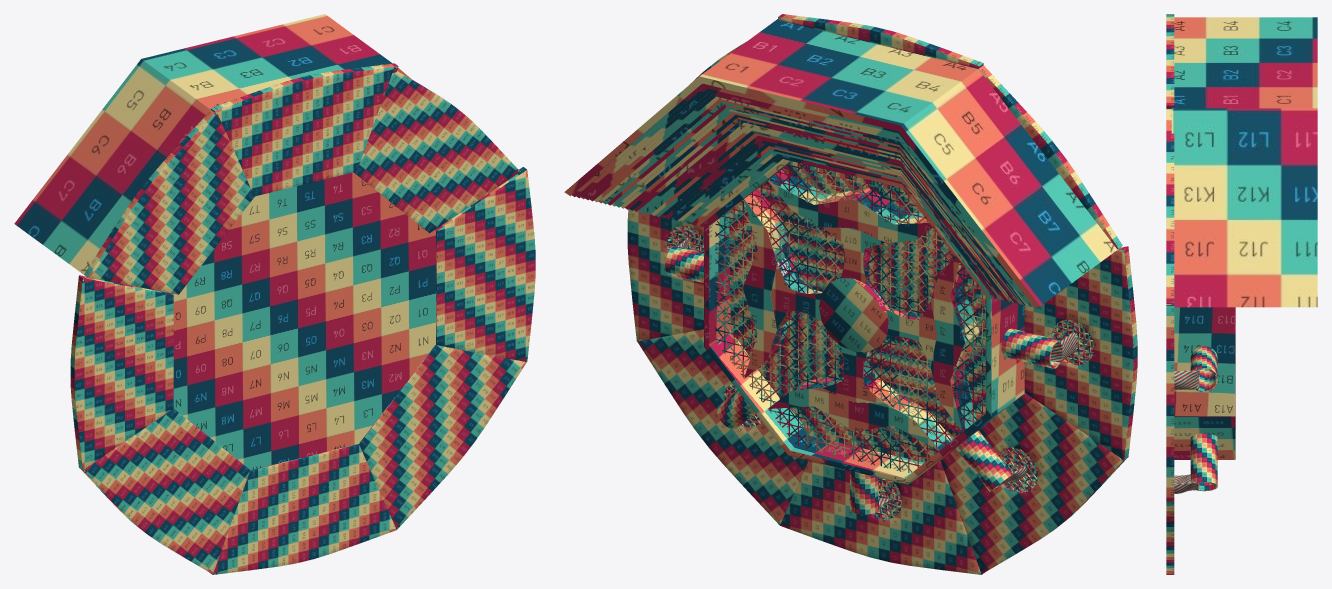
File: arene_full.FBX
The picture shows the model from 3 angles, left to right: view 1: azimuth 30°, elevation 25°; view 2: azimuth 150°, elevation 25°; view 3: azimuth 270°, elevation 25°; orthographic projection. The views are drawn at different scales.
Parts seen in each view (by area): view 1: Arène, Gradins, Cylinder001, Cylinder021, Cylinder018, Cylinder020, Cylinder016, Cylinder017, Cylinder015, Cylinder019; view 2: Gradins, Cylinder006, Grille, Plane002, Cylinder015, Cylinder001, Arène, Cylinder016, Cylinder017, Cylinder018, Cylinder021, Cylinder020 (+8 smaller); view 3: Gradins, Arène, Cylinder018, Cylinder019, Tube004, Tube005, Cylinder020, Cylinder017, Object012, Object010.
Part boxes in pixels (left/top/right/bottom): Arène: left=171, top=172, right=435, bottom=470; Gradins: left=14, top=14, right=411, bottom=275; Cylinder001: left=70, top=275, right=173, bottom=470; Cylinder021: left=84, top=107, right=254, bottom=294; Cylinder018: left=435, top=167, right=535, bottom=361; Cylinder020: left=211, top=63, right=398, bottom=196; Cylinder016: left=209, top=444, right=396, bottom=574; Cylinder017: left=359, top=345, right=526, bottom=529; Cylinder015: left=79, top=408, right=250, bottom=574; Cylinder019: left=354, top=71, right=520, bottom=233; Gradins: left=564, top=19, right=1118, bottom=307; Cylinder006: left=742, top=170, right=979, bottom=450; Grille: left=715, top=162, right=985, bottom=472; Plane002: left=729, top=161, right=985, bottom=462; Cylinder015: left=941, top=393, right=1128, bottom=574; Cylinder001: left=1024, top=246, right=1137, bottom=460; Arène: left=704, top=159, right=1024, bottom=484; Cylinder016: left=780, top=461, right=983, bottom=574; Cylinder017: left=637, top=329, right=808, bottom=525; Cylinder018: left=627, top=209, right=703, bottom=341; Cylinder021: left=976, top=61, right=1122, bottom=248; Cylinder020: left=778, top=14, right=983, bottom=68; Gradins: left=1171, top=17, right=1317, bottom=307; Arène: left=1174, top=307, right=1235, bottom=459; Cylinder018: left=1166, top=303, right=1174, bottom=501; Cylinder019: left=1166, top=109, right=1174, bottom=302; Tube004: left=1190, top=433, right=1217, bottom=491; Tube005: left=1190, top=346, right=1217, bottom=392; Cylinder020: left=1166, top=14, right=1174, bottom=108; Cylinder017: left=1166, top=501, right=1174, bottom=574; Object012: left=1174, top=370, right=1199, bottom=389; Object010: left=1174, top=481, right=1199, bottom=493.
Size of the model in its own units: 867 by 864 by 243.
1 material, 1 textured.
